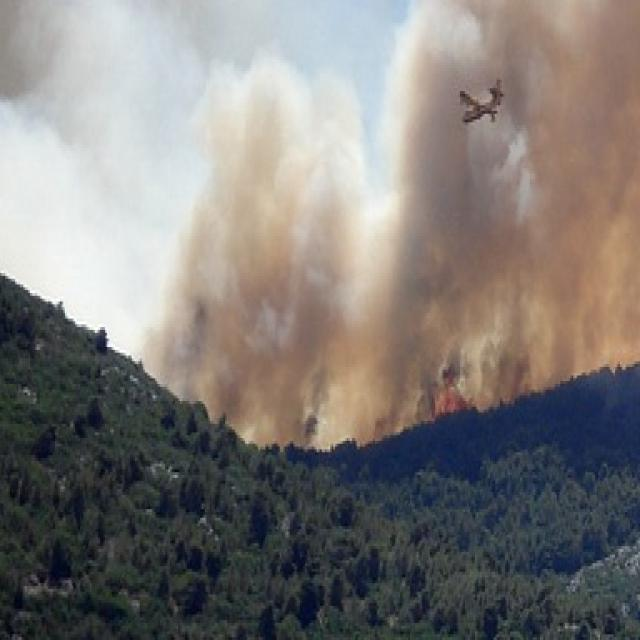Smoke: (135, 0, 640, 449)
